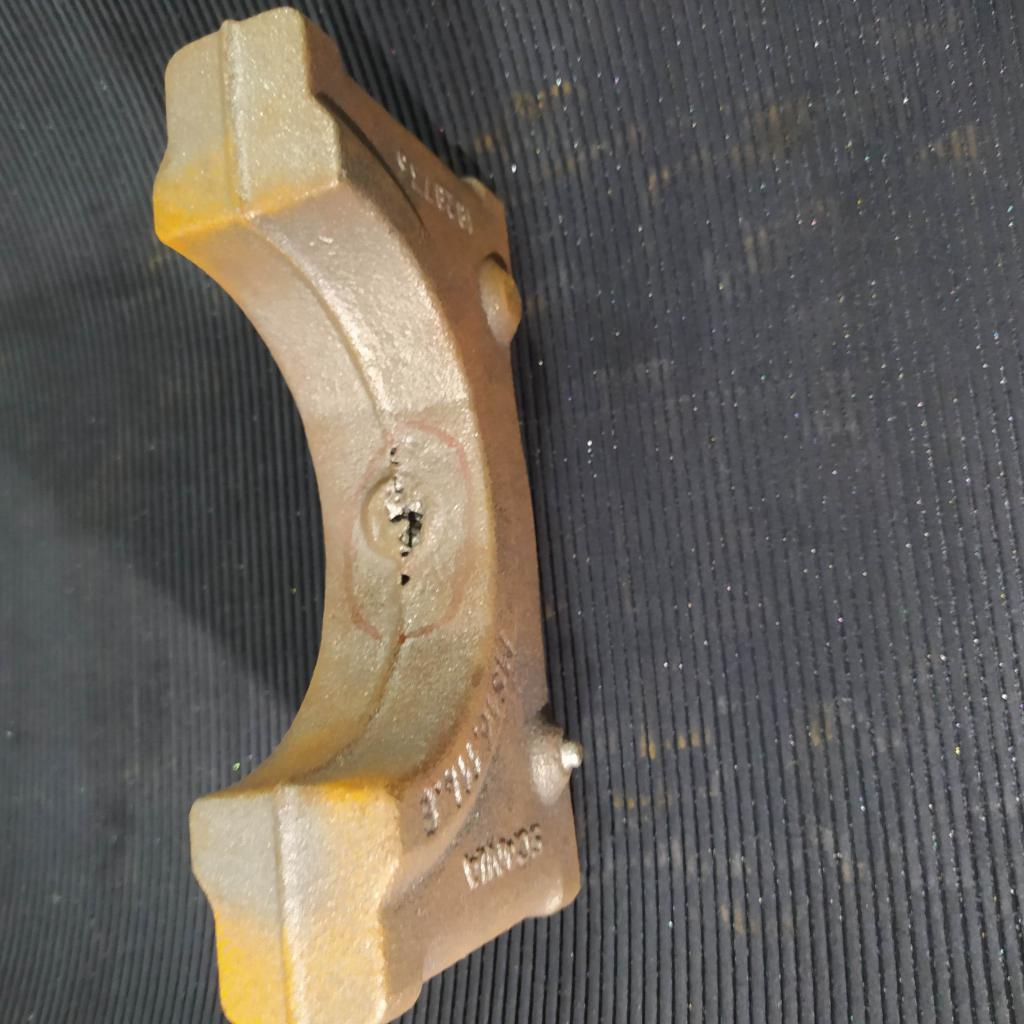buraco: (385, 504, 423, 561), (399, 571, 412, 592), (387, 445, 401, 459)
